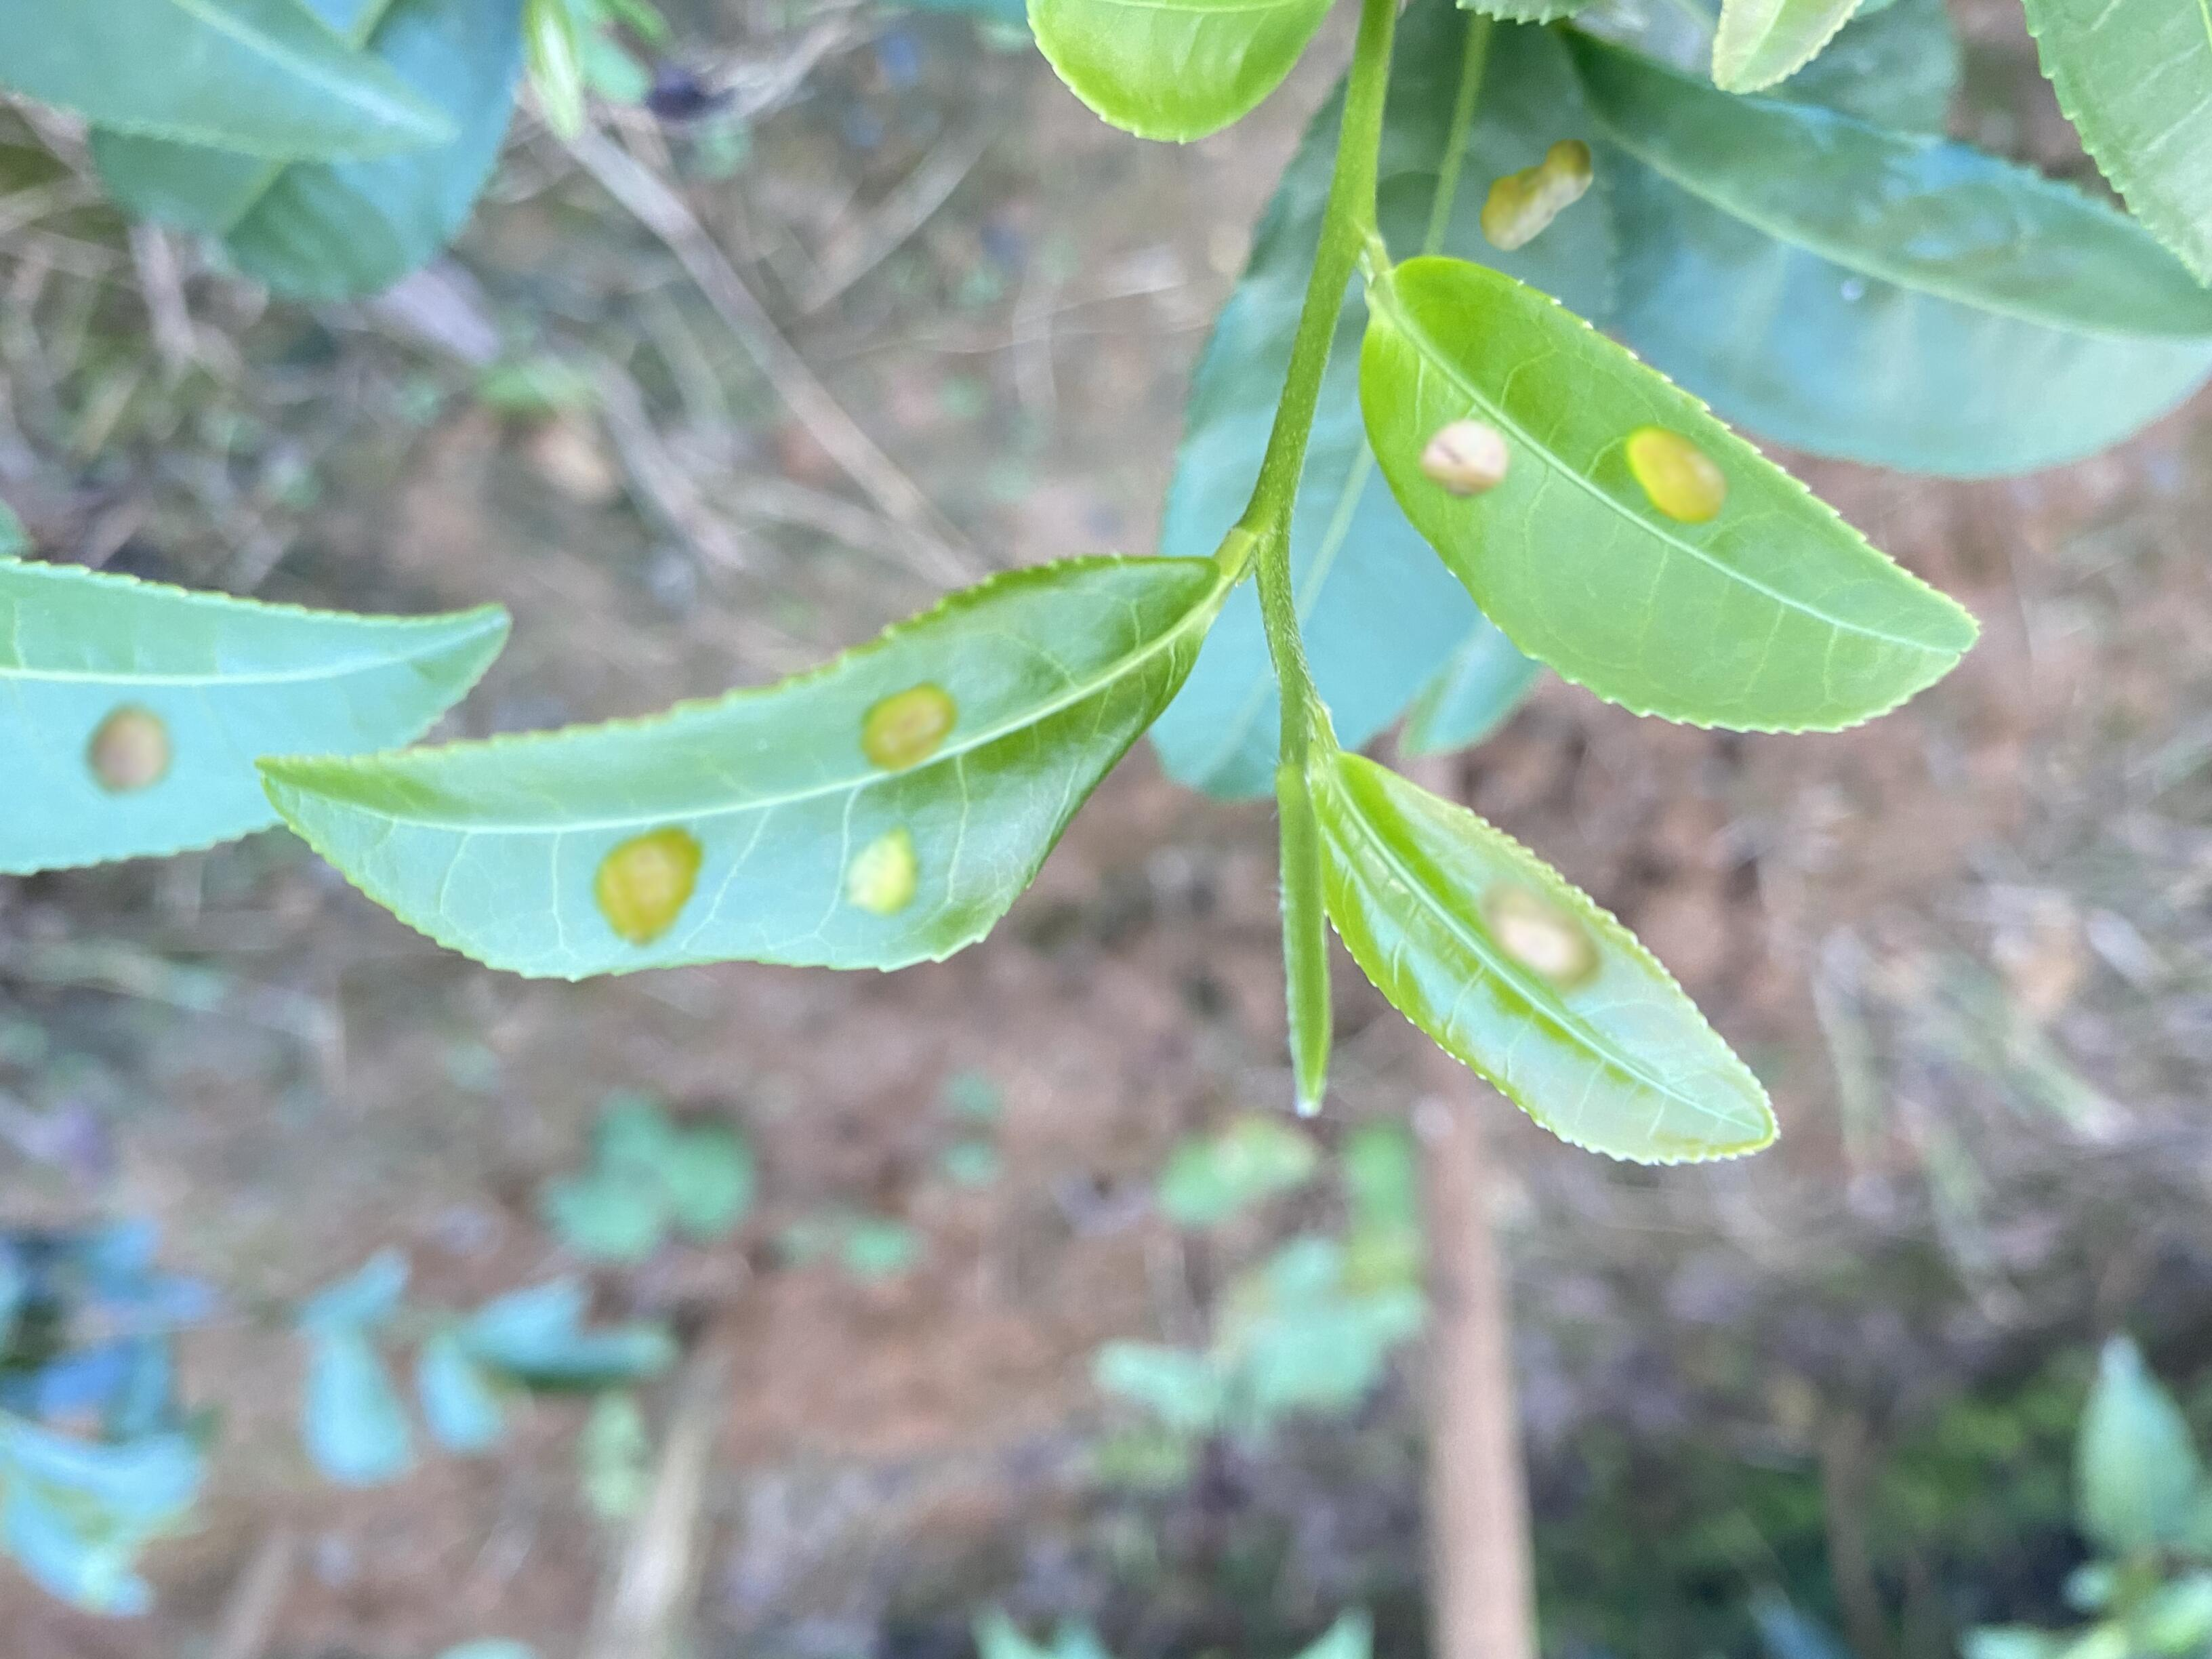chabing_high: (256, 552, 1221, 988), (1357, 253, 1980, 734)
chabing_low: (1151, 3, 1618, 816), (1317, 755, 1785, 1169), (0, 552, 516, 882)
